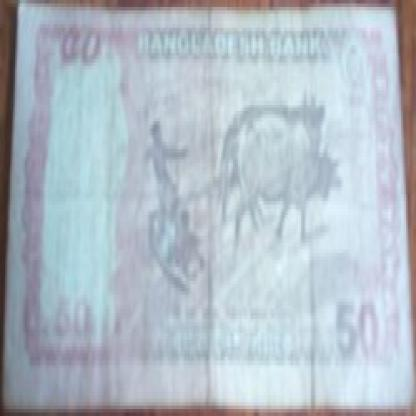Fifty taka: (322, 284, 394, 378), (55, 3, 121, 104)
